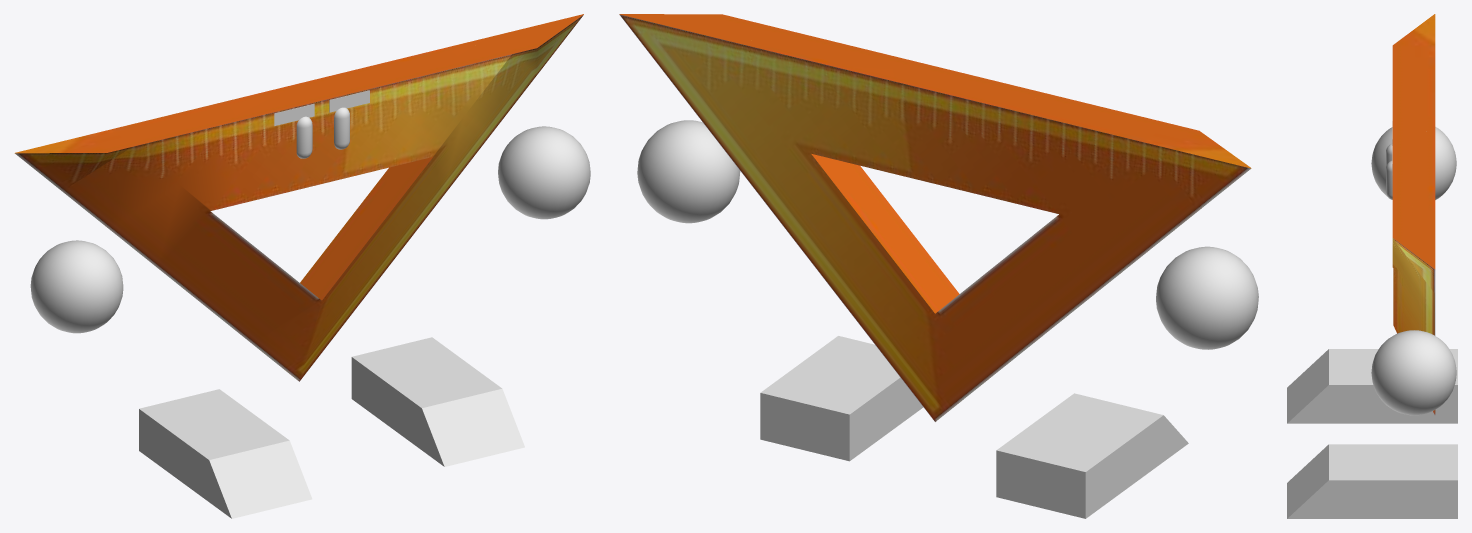
Rendered from 三角尺人.fbx.
3 views of the same model, side by side, from view 1: azimuth 30°, elevation 25°; view 2: azimuth 150°, elevation 25°; view 3: azimuth 270°, elevation 25° (orthographic). The views are drawn at different scales.
Visible parts, largest first — view 1: Box001, 右腳 (×2), 左腳, 右手, 右眼; view 2: Box001, 右腳 (×2), 左腳, 右手; view 3: Box001, 右腳 (×2), 左腳, 右手, 左眼.
Part boxes in pixels (x1,y1,x2,y2): Box001: (14, 14, 583, 381); 右腳 (×2): (139, 126, 590, 518); 左腳: (351, 337, 524, 466); 右手: (30, 240, 123, 333); 右眼: (296, 116, 312, 158); Box001: (619, 14, 1251, 421); 右腳 (×2): (637, 120, 1188, 518); 左腳: (760, 336, 923, 461); 右手: (1156, 246, 1258, 349); Box001: (1392, 14, 1435, 414); 右腳 (×2): (1287, 330, 1457, 423); 左腳: (1287, 444, 1457, 518); 右手: (1371, 127, 1456, 199); 左眼: (1386, 160, 1392, 199).
Size of the model in its own units: 70.71 by 40.36 by 20.
Materials: 1 (1 with a texture image).
